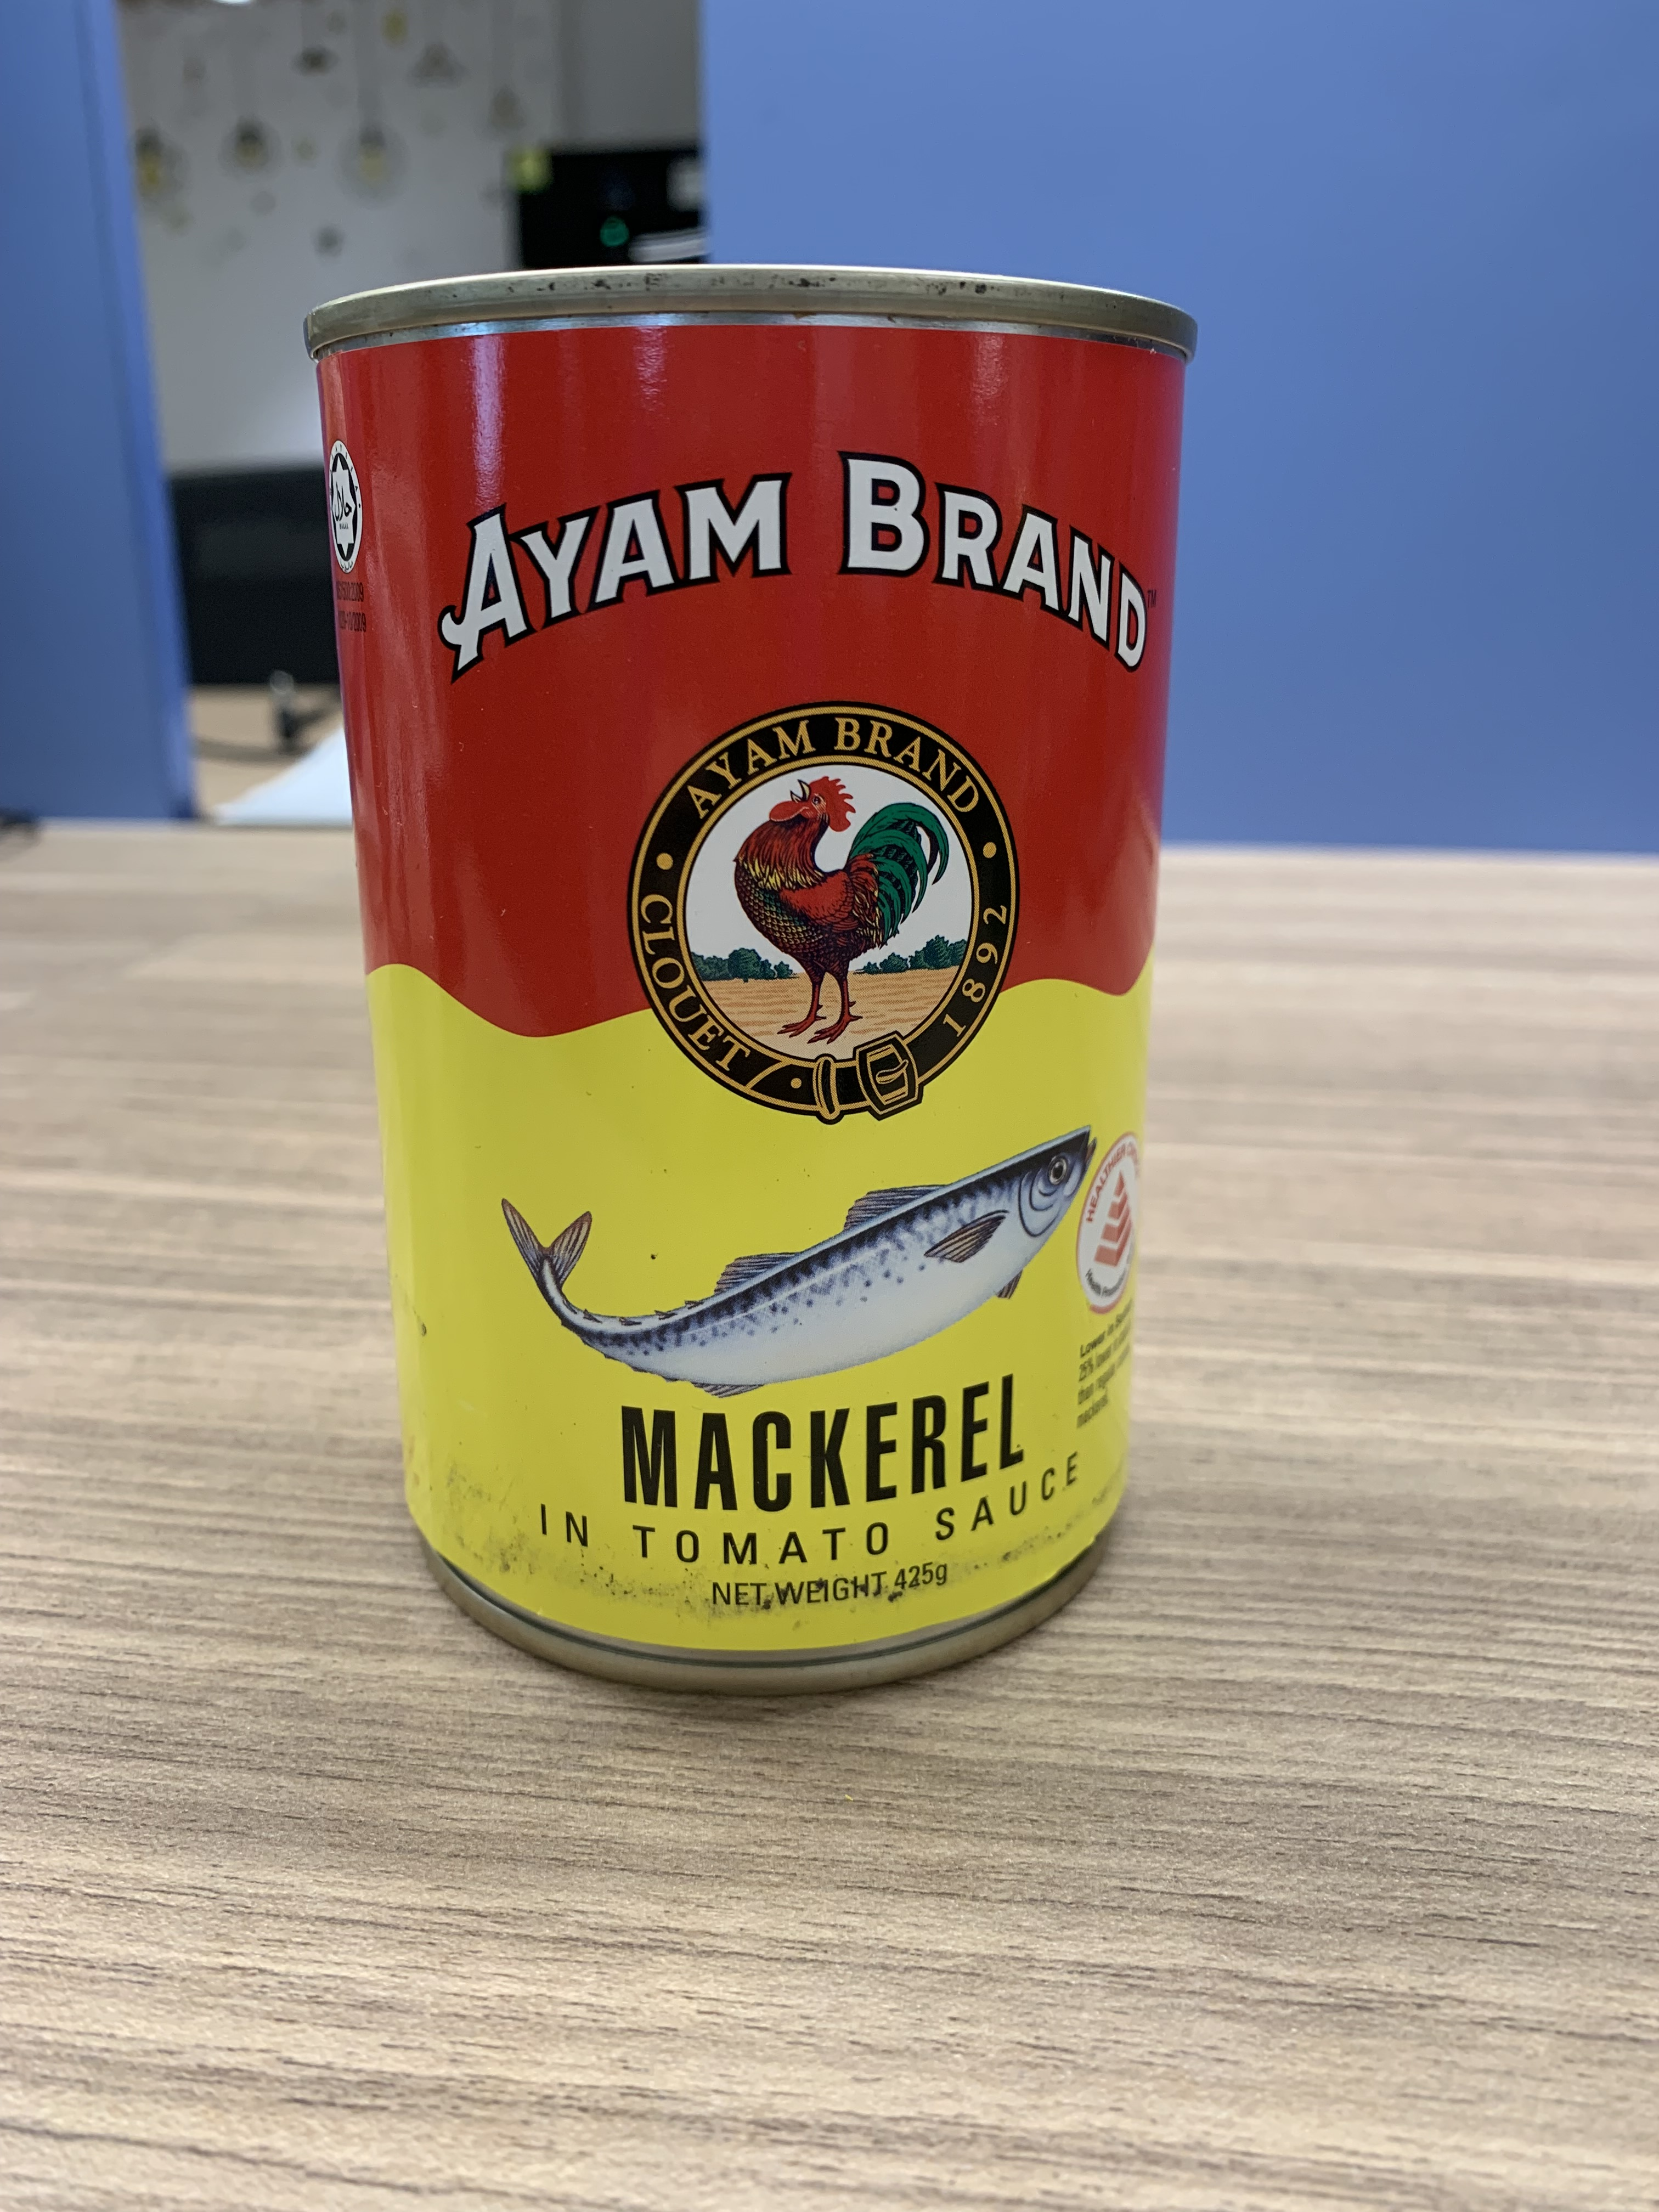sardines: (282, 266, 1208, 1717)
